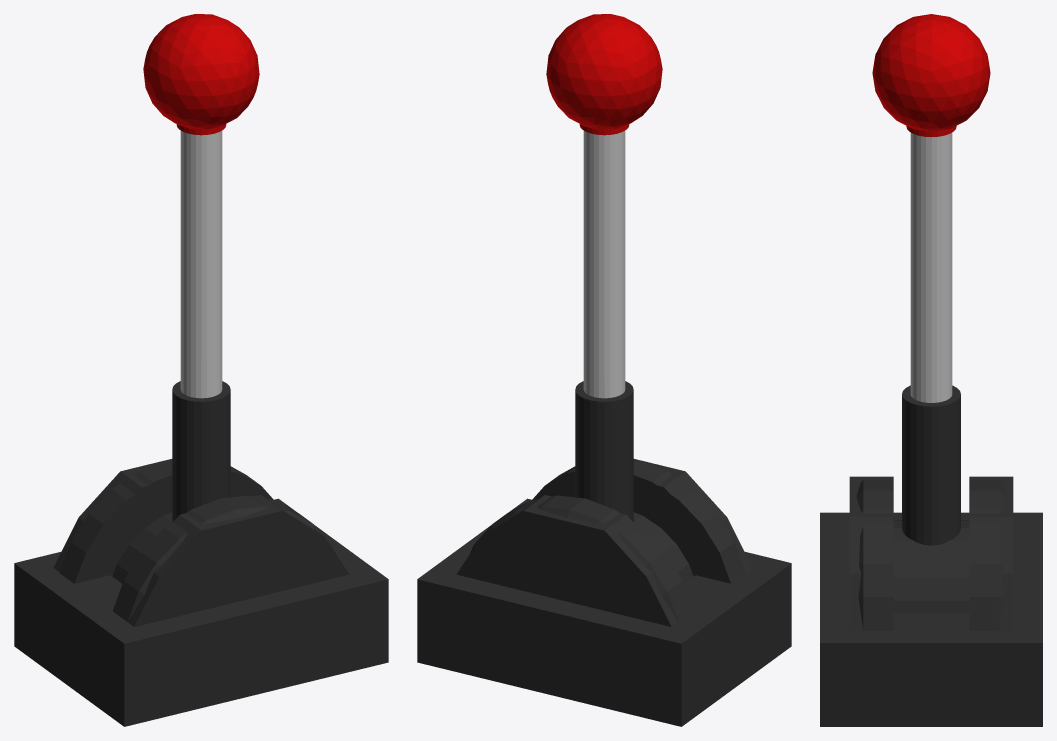
The model's file is Lever.fbx.
3 renders of one model, left to right at view 1: azimuth 30°, elevation 25°; view 2: azimuth 150°, elevation 25°; view 3: azimuth 270°, elevation 25°, orthographic.
Visible parts, largest first — view 1: Base, Base.COL, Stick; view 2: Base.COL, Stick, Base; view 3: Stick, Base, Base.COL.
Boxes of the visible parts, left/top/right/bottom form: Base: left=26, top=459, right=381, bottom=724; Base.COL: left=14, top=459, right=388, bottom=726; Stick: left=112, top=14, right=259, bottom=583; Base.COL: left=417, top=459, right=791, bottom=726; Stick: left=546, top=14, right=693, bottom=583; Base: left=429, top=459, right=787, bottom=724; Stick: left=872, top=14, right=990, bottom=613; Base: left=828, top=480, right=1034, bottom=726; Base.COL: left=820, top=476, right=1042, bottom=726.
Size of the model in its own units: 0.5224 by 1.2 by 0.3772.
